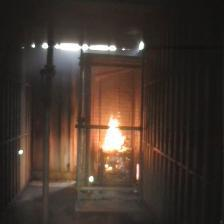fire: (99, 115, 132, 177)
